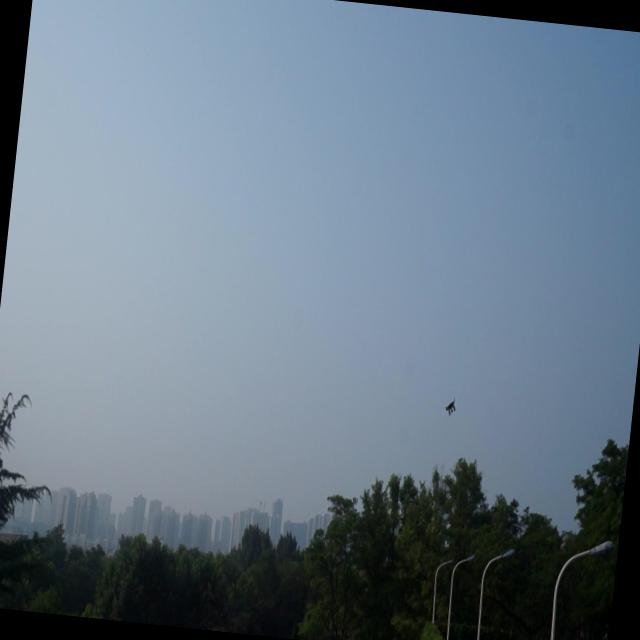drone: (440, 392, 461, 422)
